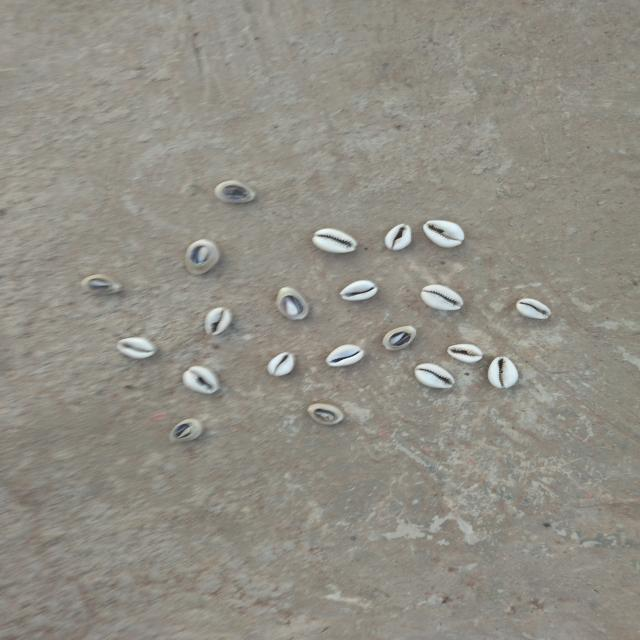facedown: (271, 284, 311, 322), (182, 238, 220, 276), (381, 322, 421, 354), (210, 180, 259, 205), (78, 273, 126, 297), (305, 400, 346, 428), (166, 416, 204, 446)
faceup: (422, 217, 468, 250), (308, 225, 358, 255), (416, 284, 466, 313), (179, 363, 221, 397), (412, 360, 458, 390), (113, 334, 161, 361), (485, 356, 523, 390), (381, 215, 414, 254), (324, 341, 365, 369), (513, 295, 555, 322), (336, 278, 381, 303), (200, 305, 233, 339), (445, 340, 486, 366), (266, 349, 300, 378)
